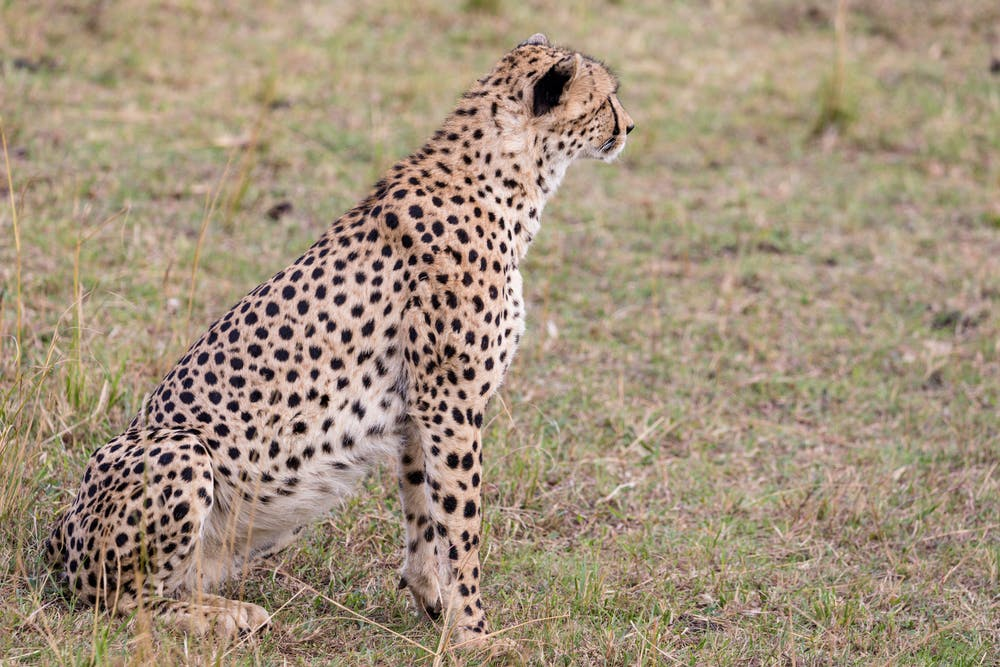cheetah: (490, 19, 650, 182)
